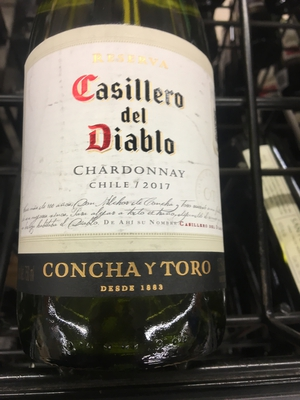casillero del diablo chardonnay: (24, 1, 227, 385)
